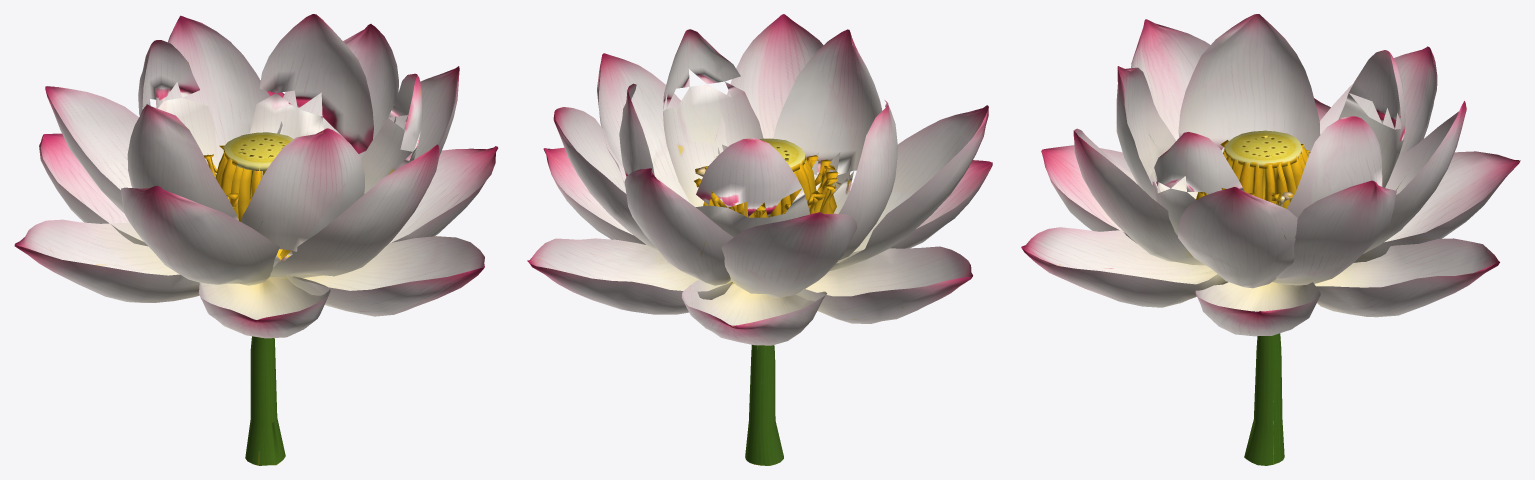
File: lotus.glb
3 renders of one model, left to right at view 1: azimuth 30°, elevation 25°; view 2: azimuth 150°, elevation 25°; view 3: azimuth 270°, elevation 25°, orthographic. The views are drawn at different scales.
Size of the model in its own units: 0.9575 by 0.7715 by 0.9019.
Materials: 1 (1 with a texture image).
